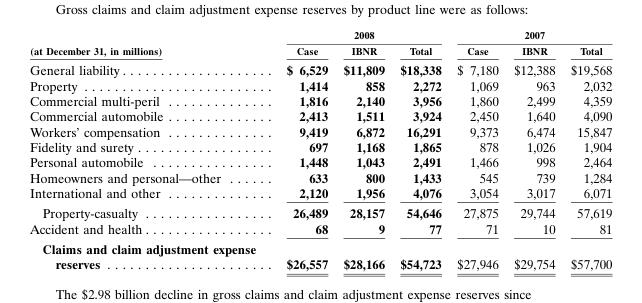table: (29, 28, 611, 271)
table column: (29, 28, 270, 271), (270, 28, 334, 271), (334, 28, 391, 271), (391, 28, 448, 271), (448, 28, 505, 271), (505, 28, 562, 271), (562, 28, 611, 271)
table column header: (29, 28, 611, 59)
table row: (29, 238, 611, 271), (29, 59, 611, 77), (29, 184, 611, 202), (29, 202, 611, 220), (29, 220, 611, 238), (29, 42, 611, 59), (29, 92, 611, 108), (29, 138, 611, 154), (29, 77, 611, 92), (29, 108, 611, 123), (29, 123, 611, 138), (29, 154, 611, 169), (29, 169, 611, 184), (29, 28, 611, 42)
table spanning cell: (29, 28, 270, 59), (270, 28, 448, 42), (448, 28, 611, 42)
